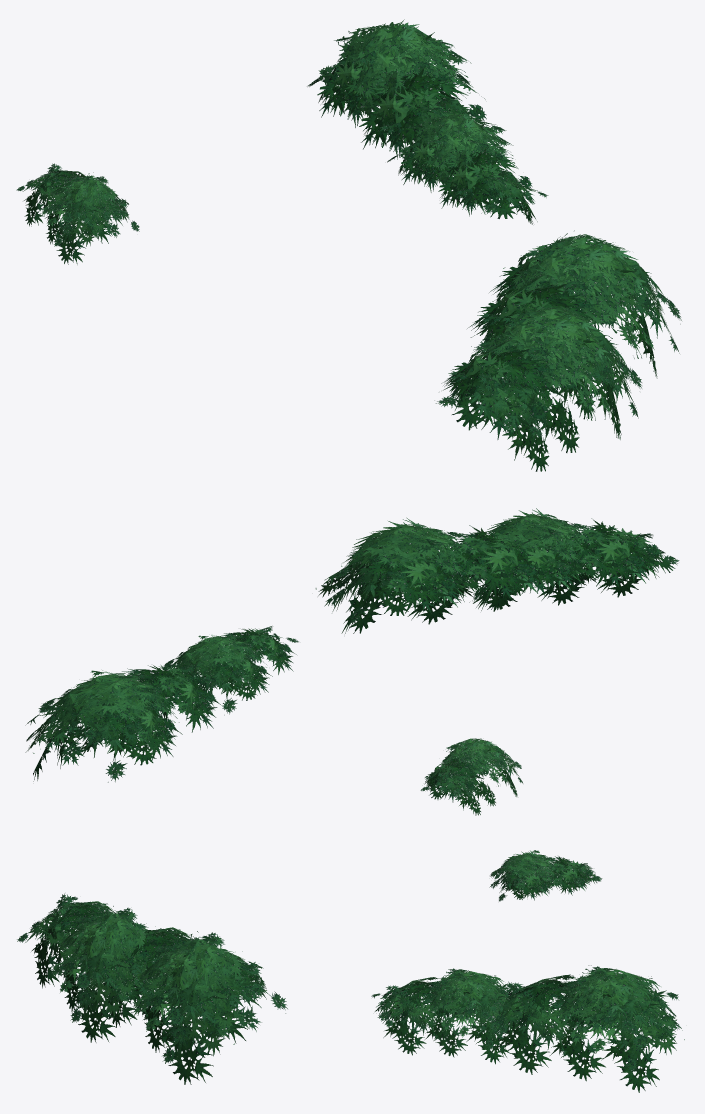
Rendered from Area_07_9.fbx.
3 views of the same model, one above another, from view 1: azimuth 30°, elevation 25°; view 2: azimuth 150°, elevation 25°; view 3: azimuth 270°, elevation 25° (orthographic). The views are drawn at different scales.
Parts seen in each view (by area): view 1: Area_07_9; view 2: Area_07_9; view 3: Area_07_9.
Part boxes in pixels (x1,y1,x2,y2): Area_07_9: [16, 19, 681, 471]; Area_07_9: [25, 508, 679, 815]; Area_07_9: [17, 850, 684, 1092].
Bounding box in the file's own units: 2816 × 892 × 4252.
